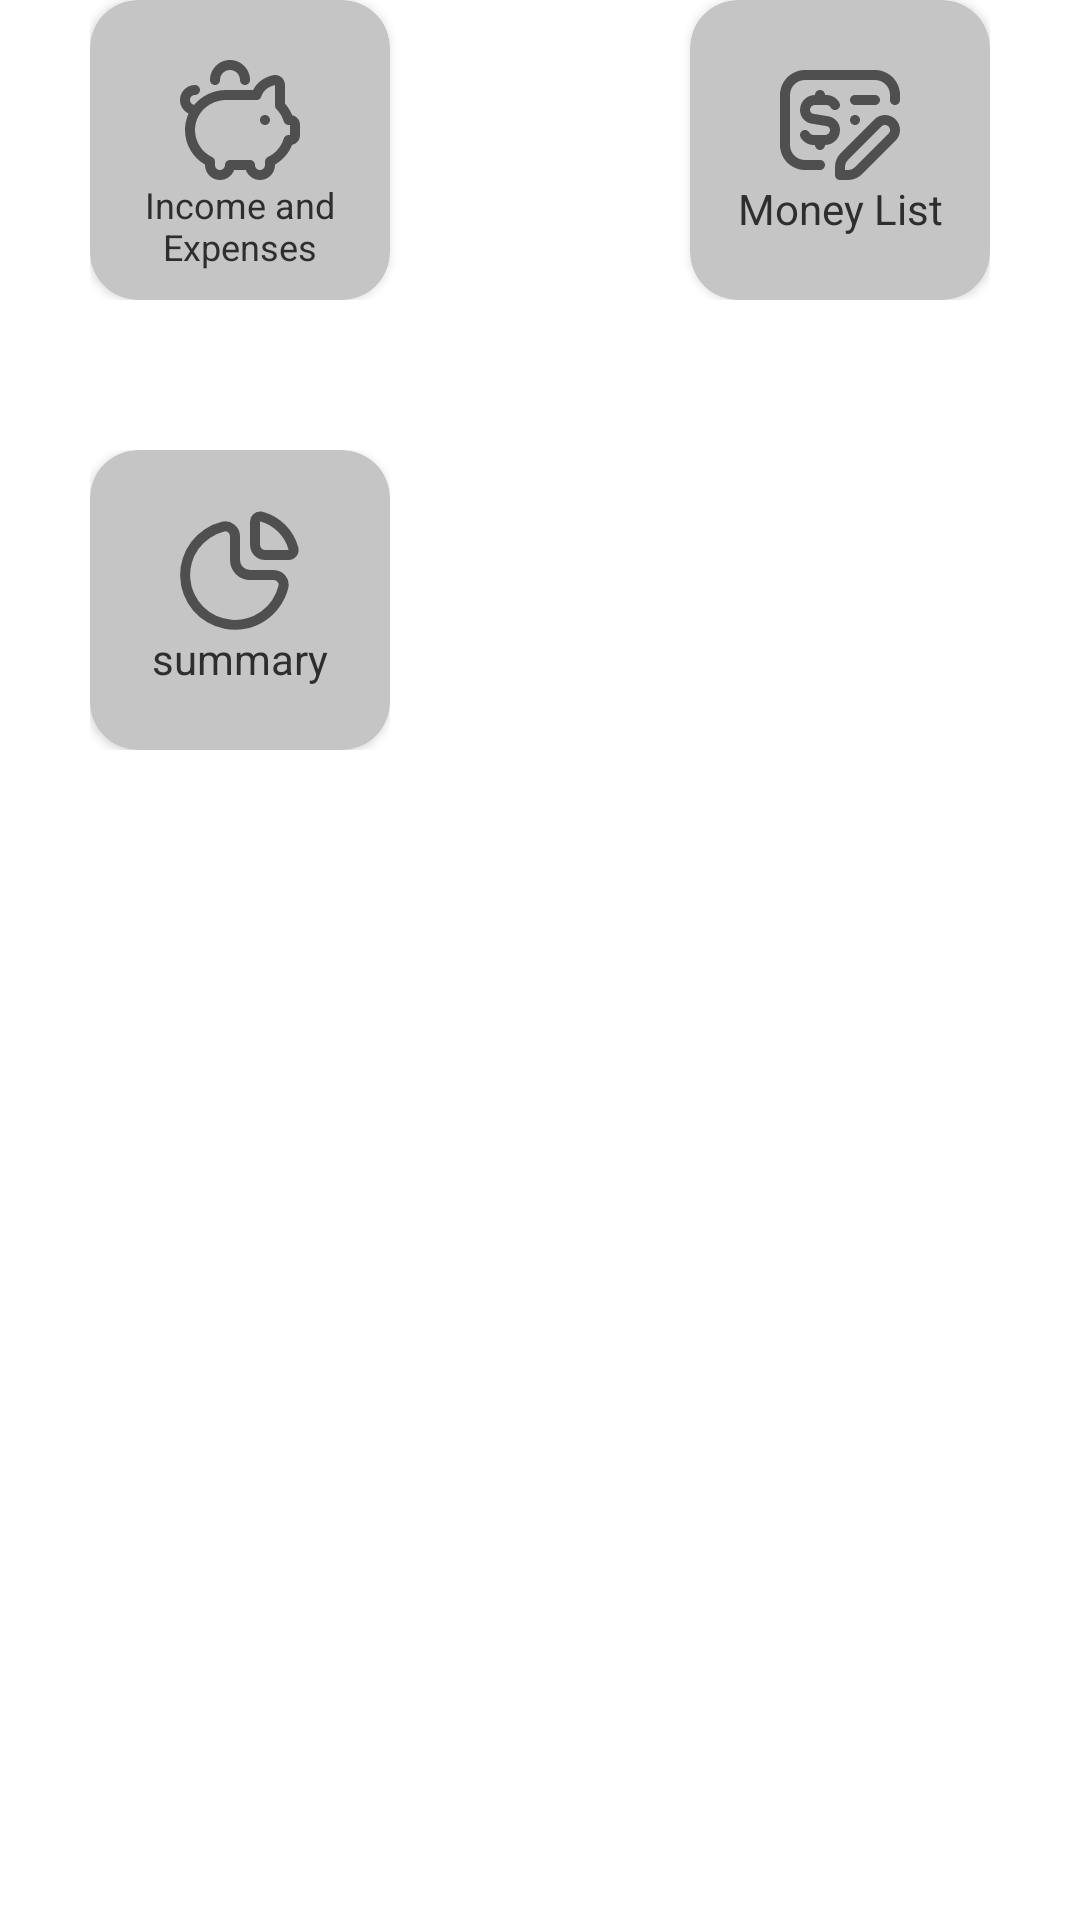

Named icons in this screenshot (1080 x 1920) and their centers, point (x, y):
chart pie: point (239, 570)
money check edit: point (840, 125)
piggy bank: point (240, 120)
